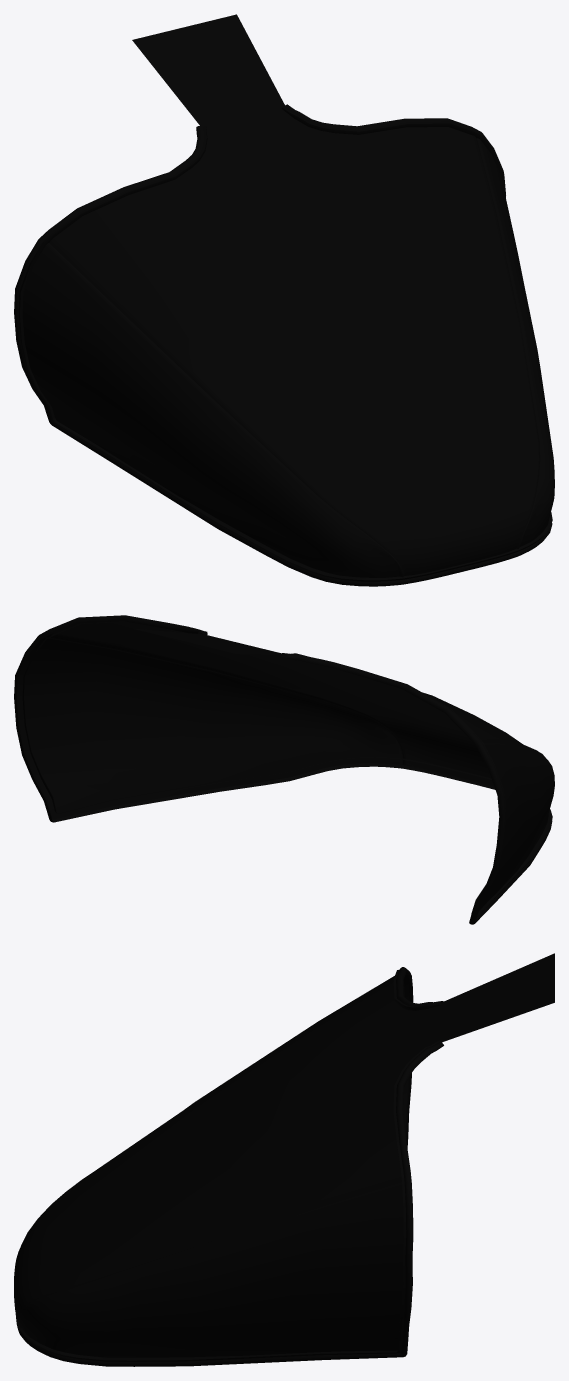
File: Tank_Bra_LEATHER_2K.glb
The picture shows the model from 3 angles, top to bottom: view 1: azimuth 30°, elevation 25°; view 2: azimuth 150°, elevation 25°; view 3: azimuth 270°, elevation 25°; orthographic projection. The views are drawn at different scales.
Parts seen in each view (by area): view 1: TankBra_LEATHER_2K; view 2: TankBra_LEATHER_2K; view 3: TankBra_LEATHER_2K.
Boxes of the visible parts, x1,y1,x2,y2 form: TankBra_LEATHER_2K: (14,14,554,586); TankBra_LEATHER_2K: (14,615,554,924); TankBra_LEATHER_2K: (14,953,554,1366).
Bounding box in the file's own units: 0.3746 × 0.2495 × 0.3696.
2 materials, 2 textured.
